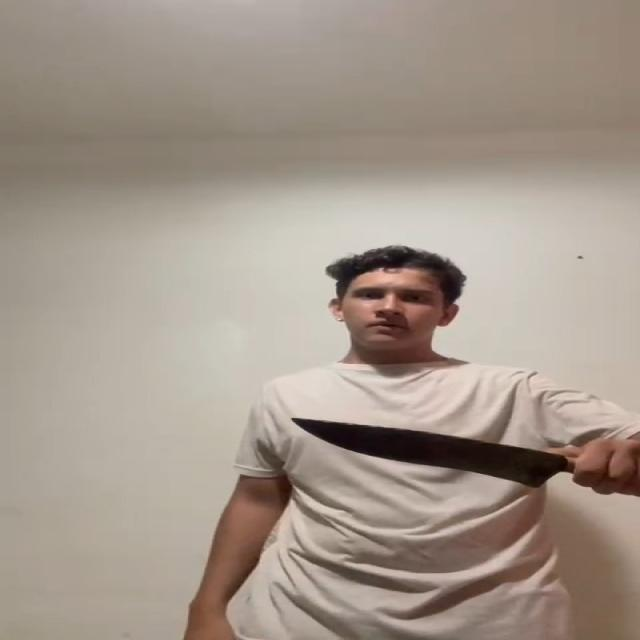knife: (296, 419, 562, 487)
